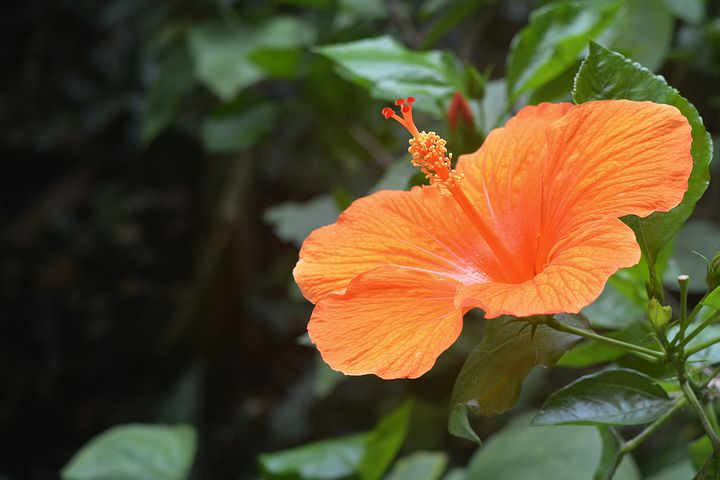Hibiscus: (274, 87, 712, 398)
